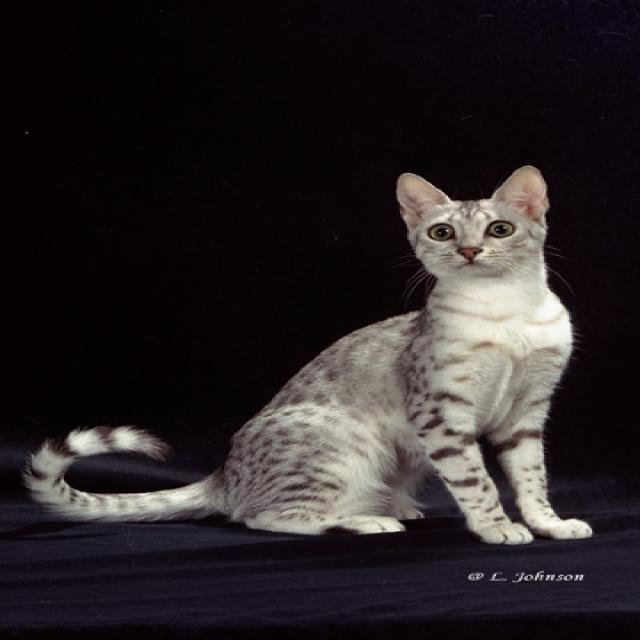Egyptian Mau: (17, 160, 602, 550)
